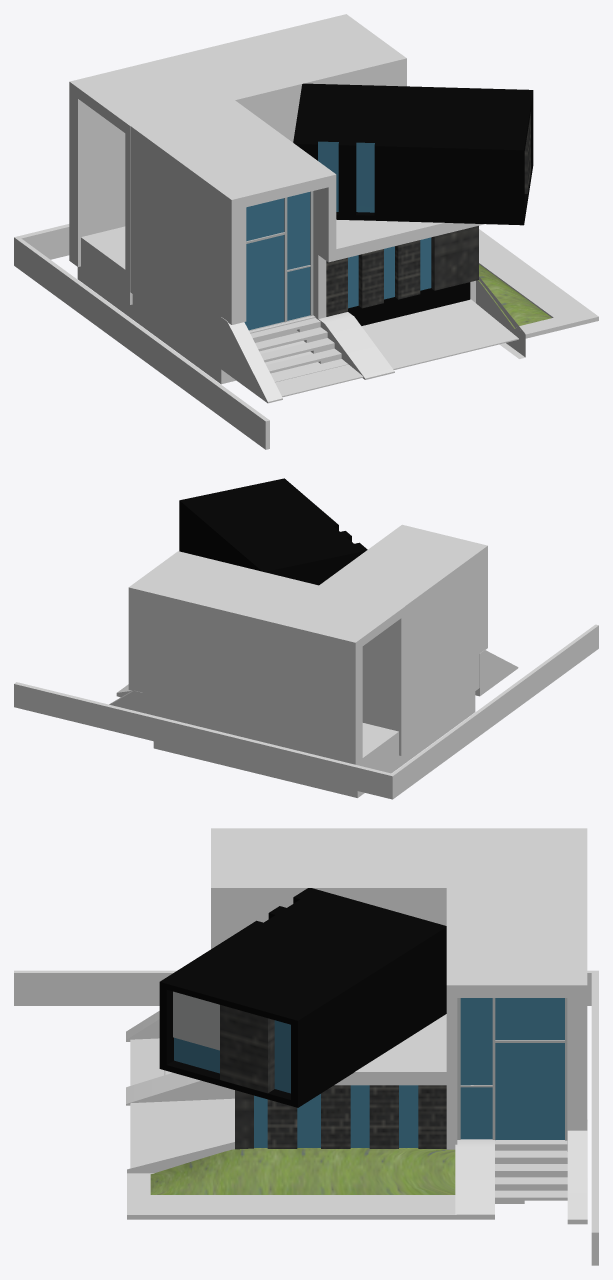
The model's file is villa.glb.
3 renders of one model, top to bottom at view 1: azimuth 30°, elevation 25°; view 2: azimuth 150°, elevation 25°; view 3: azimuth 270°, elevation 25°, orthographic. The views are drawn at different scales.
Visible parts, largest first — view 1: polySurface39, polySurface59 (×2), polySurface44, pCube17, pCube16, pCube5 (×2), polySurface41, polySurface23, pCube3, polySurface42, polySurface4, polySurface51 (+11 smaller); view 2: polySurface44, polySurface39, pCube17, polySurface59, pCube5, polySurface42, polySurface47; view 3: polySurface59 (×2), polySurface44, polySurface39, polySurface46, polySurface24, polySurface23, pCube17, pCube16, pCube3, polySurface57, polySurface43, polySurface51 (+20 smaller).
Boxes of the visible parts, x1,y1,x2,y2 form: polySurface39: (130, 100, 336, 358); polySurface59 (×2): (293, 83, 533, 225); polySurface44: (69, 14, 406, 304); pCube17: (14, 224, 269, 449); pCube16: (259, 299, 518, 397); pCube5 (×2): (77, 226, 470, 384); polySurface41: (244, 192, 310, 330); polySurface23: (479, 229, 598, 338); pCube3: (336, 219, 484, 260); polySurface42: (221, 317, 282, 403); polySurface4: (431, 226, 478, 290); polySurface51: (318, 312, 394, 379); polySurface44: (128, 551, 404, 766); polySurface39: (319, 524, 487, 742); pCube17: (14, 624, 598, 799); polySurface59: (179, 478, 367, 585); pCube5: (153, 691, 475, 797); polySurface42: (475, 650, 518, 696); polySurface47: (109, 690, 142, 712); polySurface59 (×2): (159, 888, 446, 1107); polySurface44: (446, 828, 587, 1176); polySurface39: (211, 828, 448, 948); polySurface46: (460, 998, 564, 1139); polySurface24: (150, 1148, 455, 1194); polySurface23: (127, 1173, 456, 1219); pCube17: (14, 970, 598, 1265); pCube16: (130, 1038, 234, 1174); pCube3: (211, 1014, 446, 1085); polySurface57: (220, 1005, 274, 1093); polySurface43: (455, 1139, 494, 1219); polySurface51: (126, 1072, 234, 1105).
Size of what is drawn, in the model's own units: 65.76 by 26.43 by 62.02.
8 materials, 8 textured.
